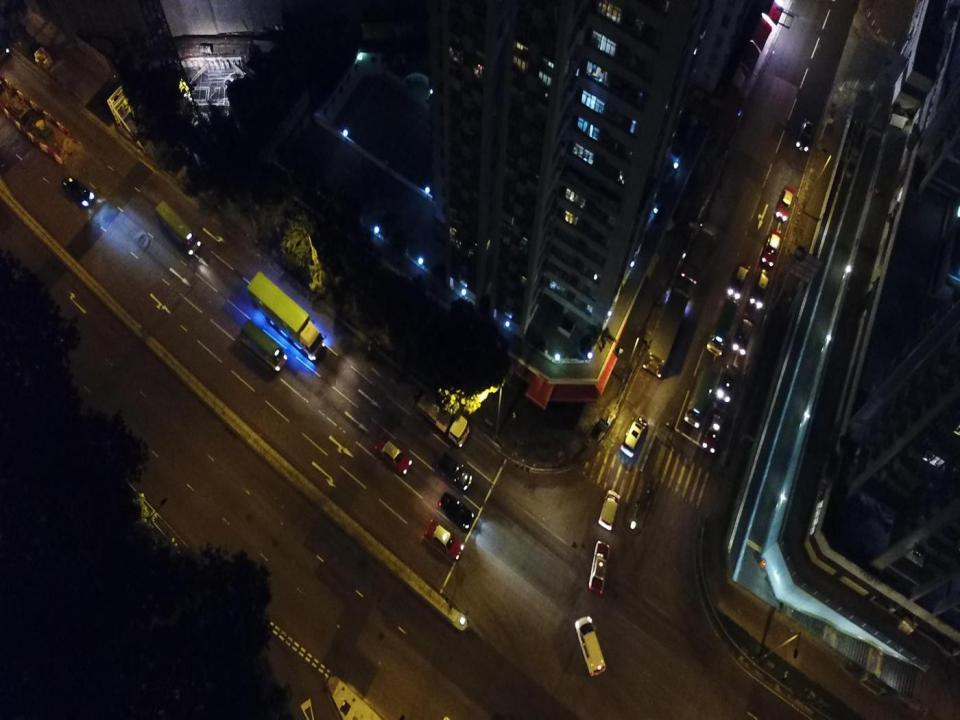bus: (154, 201, 202, 256), (240, 320, 287, 372)
car: (574, 615, 606, 677), (424, 519, 464, 561), (374, 435, 412, 475), (438, 491, 475, 531), (437, 452, 472, 492), (587, 540, 611, 595), (619, 414, 649, 458), (701, 408, 729, 455), (61, 175, 95, 209), (717, 362, 743, 402), (598, 489, 621, 532), (749, 268, 773, 307), (732, 317, 755, 355), (761, 228, 784, 265), (775, 183, 795, 221), (794, 117, 814, 153)
truck: (246, 271, 327, 362), (643, 287, 689, 378), (672, 219, 720, 296), (416, 389, 470, 448)
